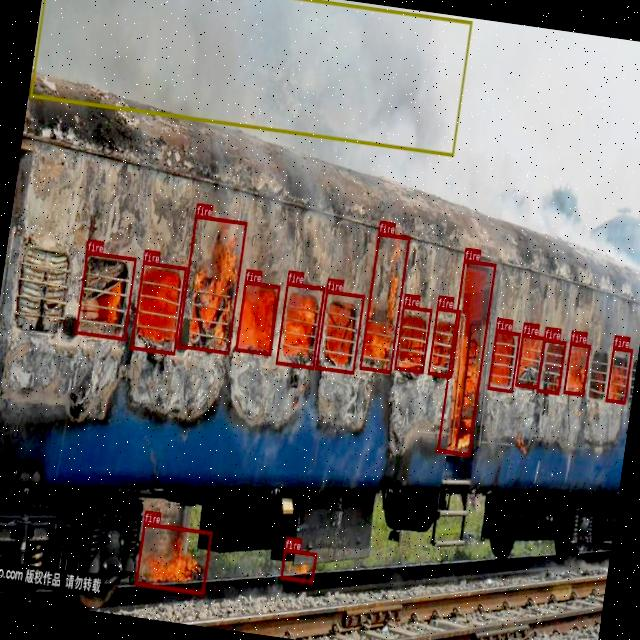fire: (436, 258, 496, 456), (177, 214, 247, 354), (359, 232, 410, 374), (135, 522, 212, 594), (76, 250, 136, 340), (130, 261, 187, 355), (275, 282, 325, 369), (315, 290, 365, 374), (234, 280, 280, 355), (393, 304, 432, 374), (427, 306, 461, 378), (488, 328, 520, 392), (536, 337, 566, 395), (516, 334, 546, 388), (562, 342, 590, 396), (606, 346, 632, 404), (280, 548, 316, 583)
smoke: (29, 0, 472, 156)
